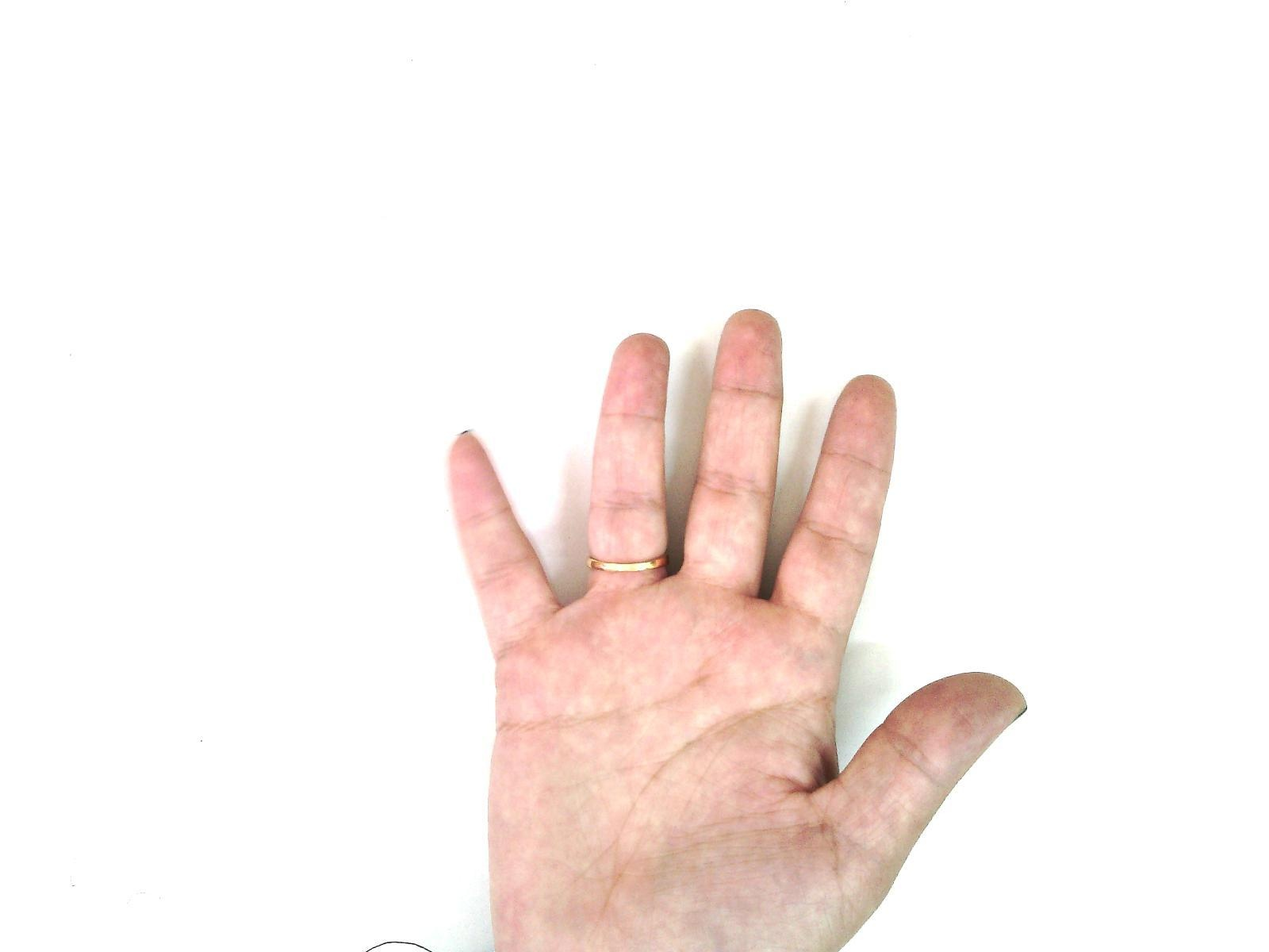open_palm: (443, 307, 1029, 951)
